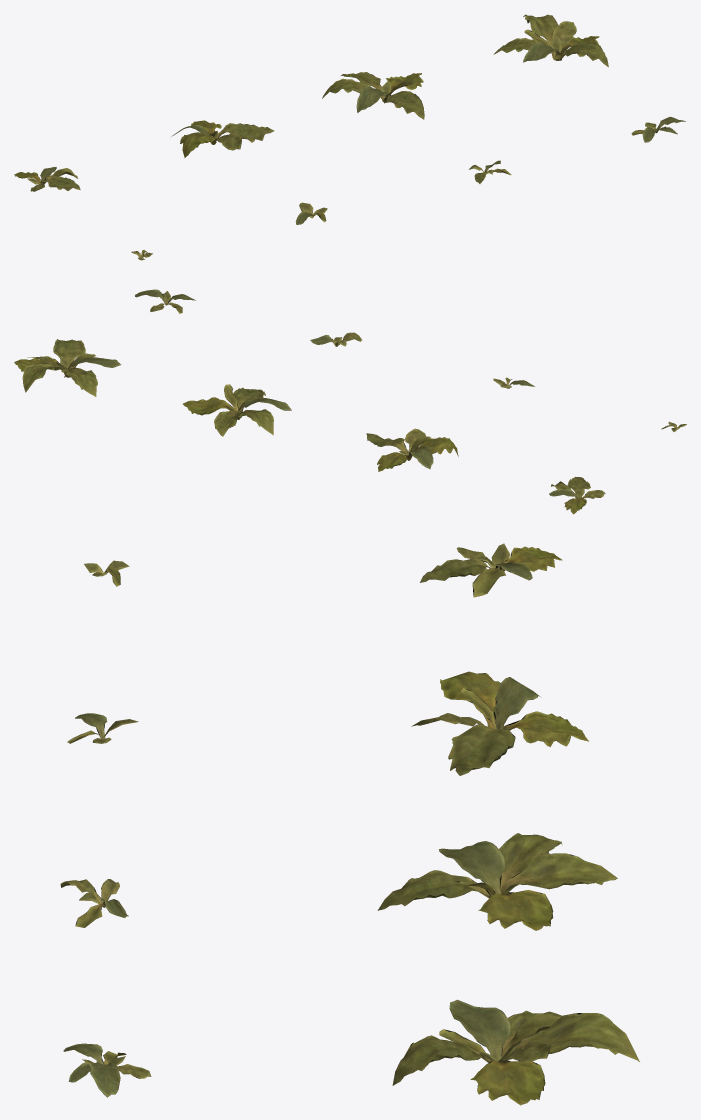
Rendered from crystalline_iceplant.glb.
The picture shows the model from 3 angles, top to bottom: view 1: azimuth 30°, elevation 25°; view 2: azimuth 150°, elevation 25°; view 3: azimuth 270°, elevation 25°; orthographic projection. The views are drawn at different scales.
Visible parts, largest first — view 1: crystalline_iceplant_a_LOD0; view 2: crystalline_iceplant_a_LOD0; view 3: crystalline_iceplant_a_LOD0.
Part boxes in pixels (left/top/right/bottom): crystalline_iceplant_a_LOD0: left=14, top=14, right=685, bottom=260; crystalline_iceplant_a_LOD0: left=14, top=289, right=686, bottom=514; crystalline_iceplant_a_LOD0: left=60, top=543, right=639, bottom=1105.
Bounding box in the file's own units: 1.69 × 0.0821 × 0.7379.
Materials: 1 (1 with a texture image).
